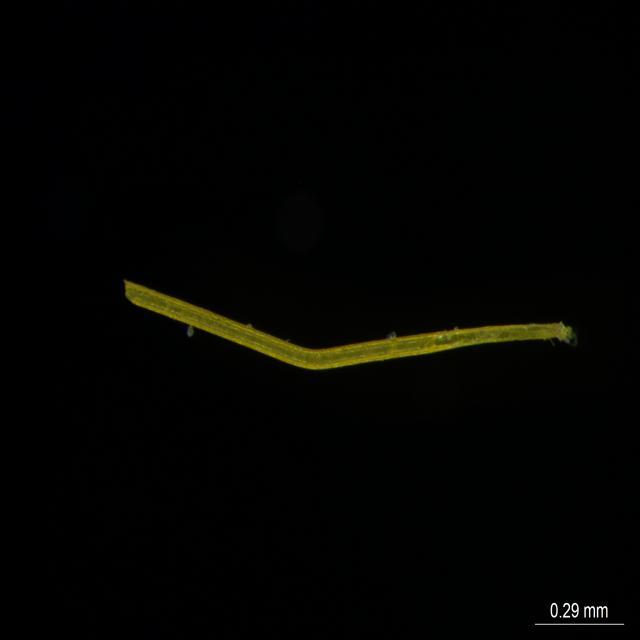fibers: (118, 281, 576, 393)
